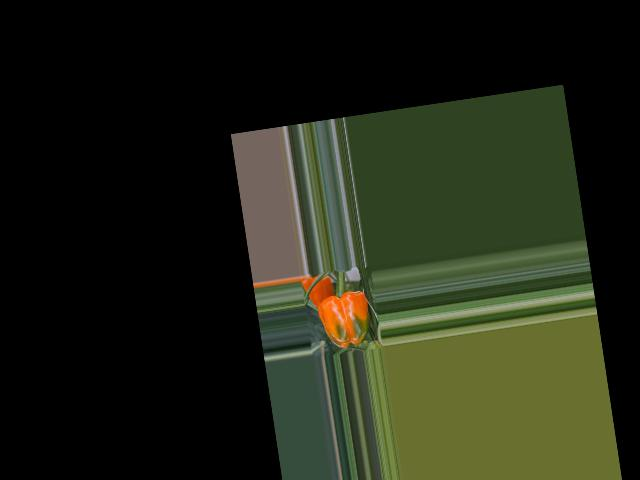bell_pepper: (312, 282, 380, 355)
